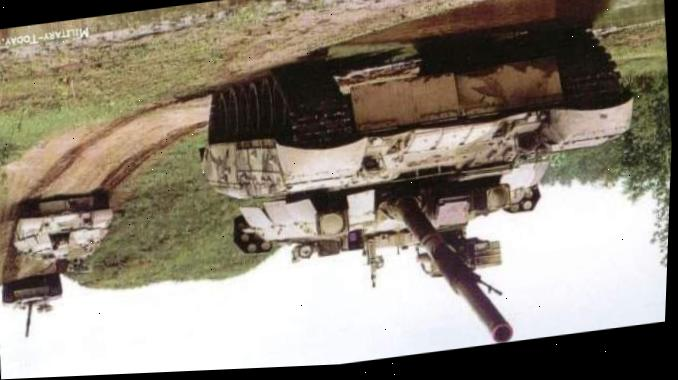tank: (183, 20, 658, 371), (6, 185, 117, 270), (0, 274, 68, 341)
